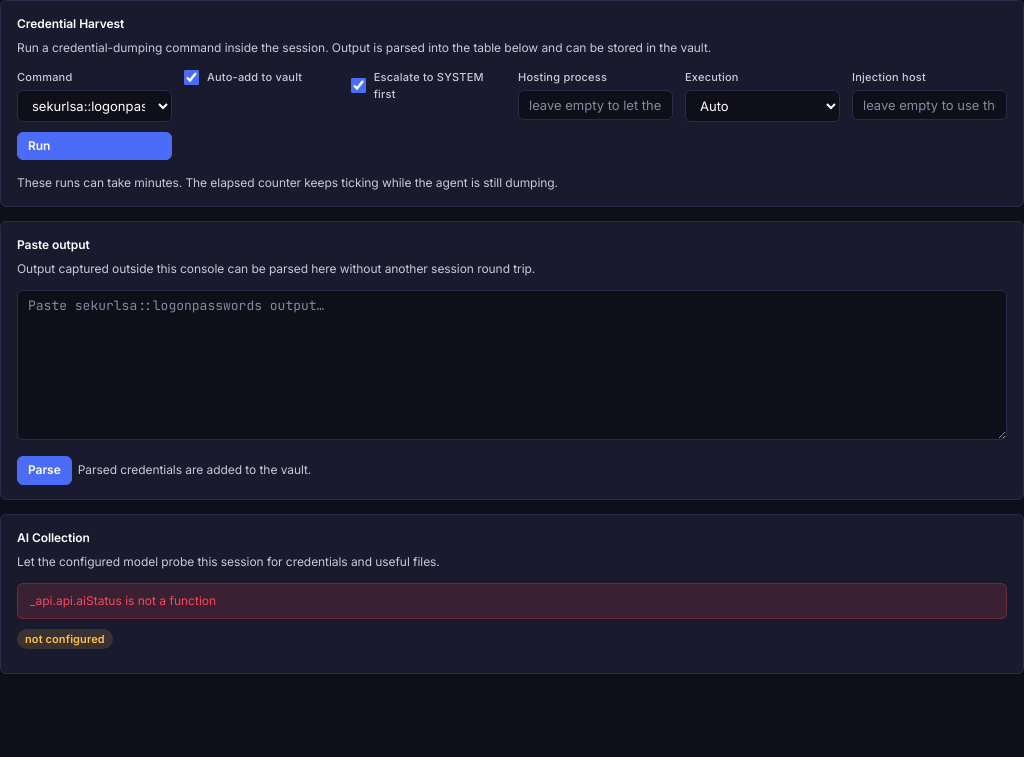
Test case: HarvestTab › hides the add-to-vault button when the run already stored its findings
The width and height of the screenshot is (1024, 757).
Expected: the dropdown labelled "Command" is shown, [17, 90, 172, 122]
Click the button "Run". click: (94, 146)
box: [17, 132, 172, 160]
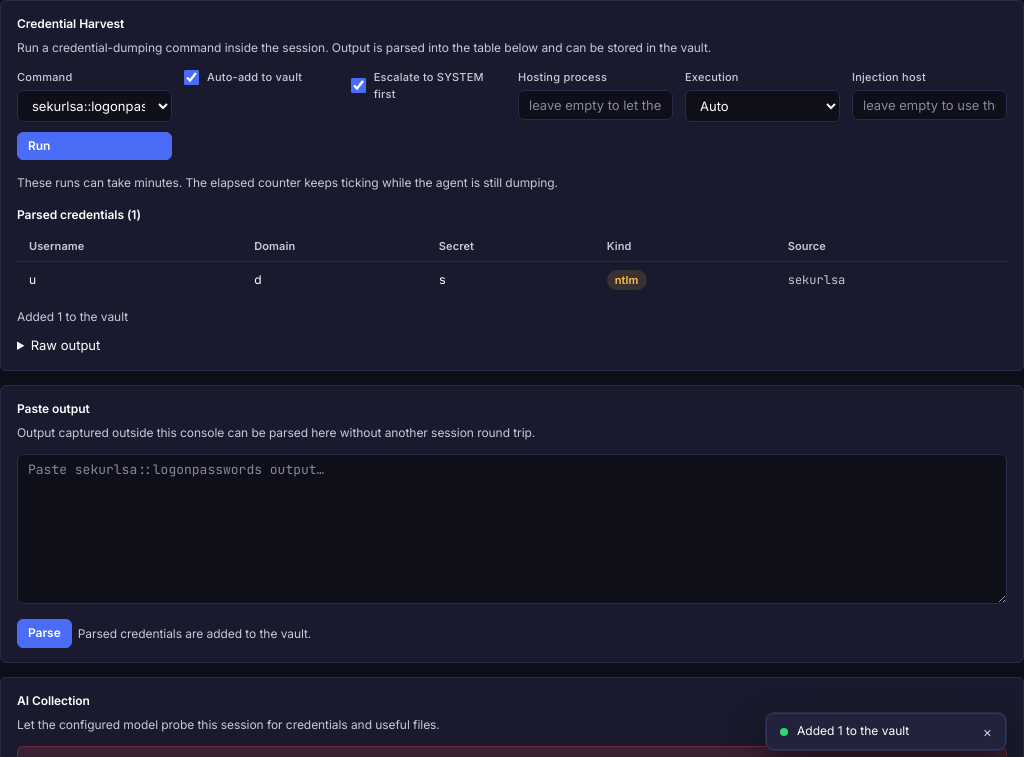
Result: the text "Parsed credentials (1)" is shown at [17, 207, 141, 222]
